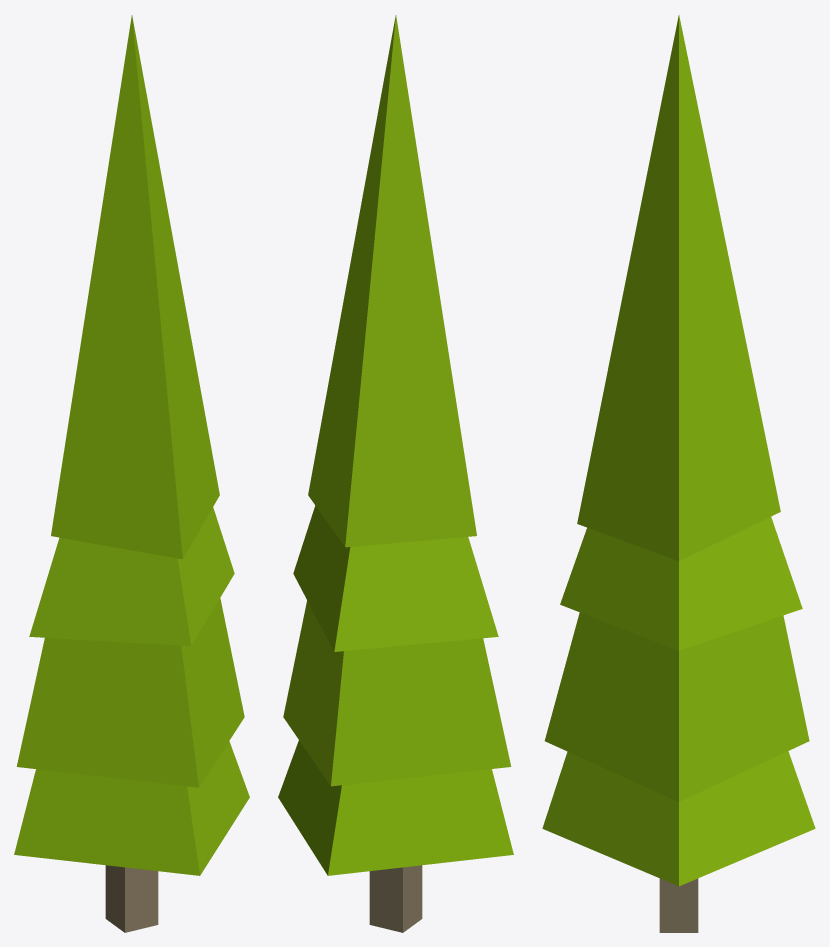
File: pine_skewed_8.fbx
The picture shows the model from 3 angles, left to right: view 1: azimuth 30°, elevation 25°; view 2: azimuth 150°, elevation 25°; view 3: azimuth 270°, elevation 25°; orthographic projection.
Visible parts, largest first — view 1: pine_skewed_8; view 2: pine_skewed_8; view 3: pine_skewed_8.
Part boxes in pixels (box(x1,y1,x2,y2)): pine_skewed_8: box(14, 15, 249, 932); pine_skewed_8: box(278, 15, 513, 932); pine_skewed_8: box(542, 15, 815, 932).
Size of the model in its own units: 85.76 by 315 by 85.76.
